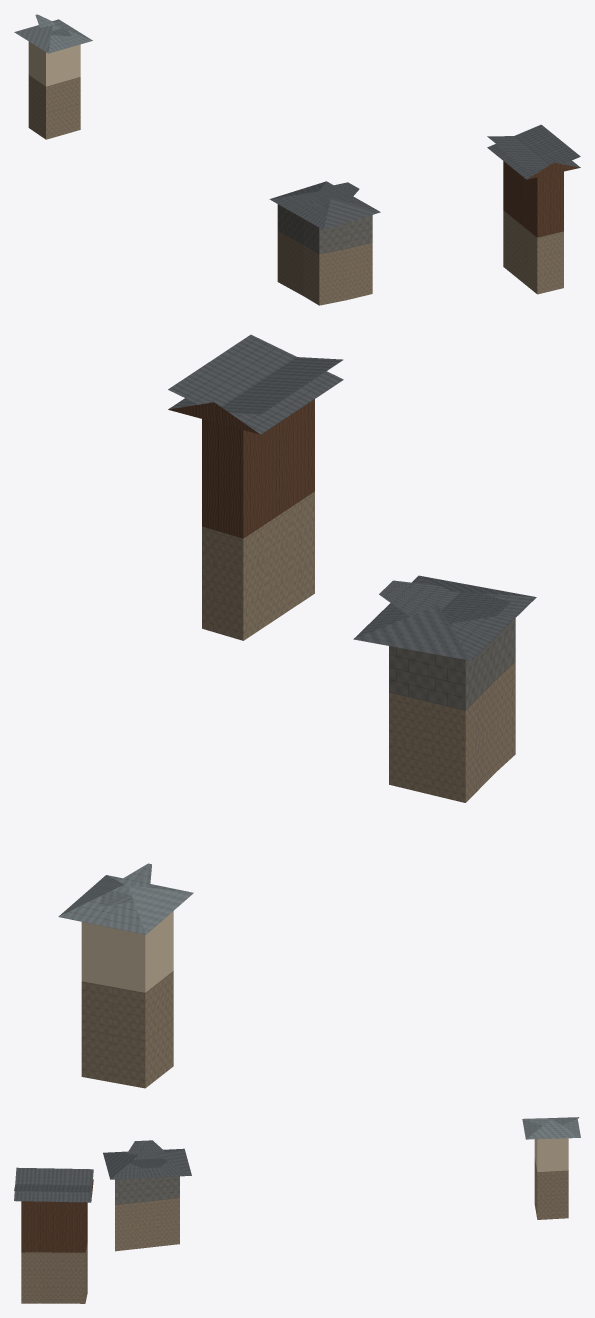
The model's file is bld_c31_-39_458.gltf.
3 renders of one model, top to bottom at view 1: azimuth 30°, elevation 25°; view 2: azimuth 150°, elevation 25°; view 3: azimuth 270°, elevation 25°, orthographic. The views are drawn at different scales.
Visible parts, largest first — view 1: bld_c31_-39_458; view 2: bld_c31_-39_458; view 3: bld_c31_-39_458.
Boxes of the visible parts, x1,y1,x2,y2 form: bld_c31_-39_458: [14, 14, 580, 305]; bld_c31_-39_458: [58, 334, 536, 1088]; bld_c31_-39_458: [14, 1117, 580, 1303].
Size of the model in its own units: 24.26 by 12.7 by 51.3.
Materials: 7 (7 with a texture image).
